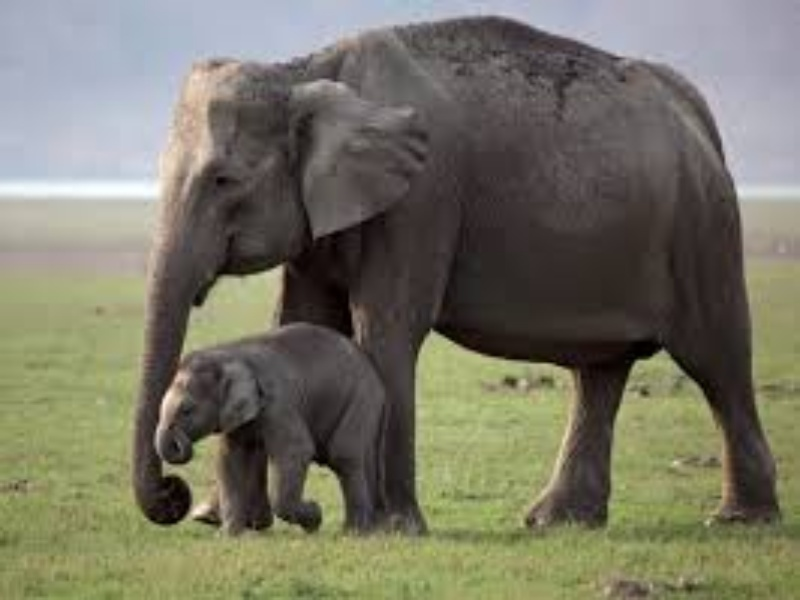elephant: (124, 14, 769, 536)
